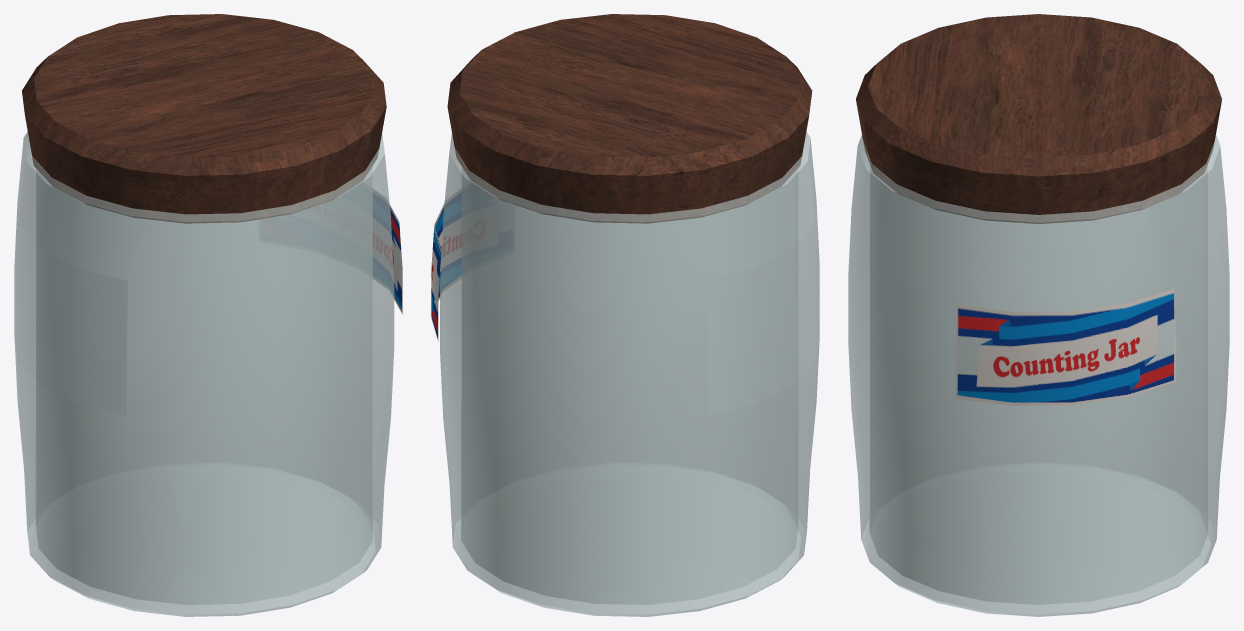
File: Jar.fbx
3 renders of one model, left to right at view 1: azimuth 30°, elevation 25°; view 2: azimuth 150°, elevation 25°; view 3: azimuth 270°, elevation 25°, orthographic.
Visible parts, largest first — view 1: polySurface2, pCylinder2, polySurface3; view 2: polySurface2, pCylinder2, polySurface3; view 3: polySurface2, pCylinder2, polySurface3.
Boxes of the visible parts, x1=… form: polySurface2: x1=14, y1=132, x2=394, y2=616; pCylinder2: x1=22, y1=14, x2=386, y2=223; polySurface3: x1=373, y1=189, x2=402, y2=313; polySurface2: x1=440, y1=131, x2=819, y2=616; pCylinder2: x1=447, y1=14, x2=812, y2=223; polySurface3: x1=431, y1=189, x2=461, y2=341; polySurface2: x1=848, y1=135, x2=1229, y2=616; pCylinder2: x1=856, y1=14, x2=1221, y2=223; polySurface3: x1=955, y1=288, x2=1176, y2=405.
Size of the model in its own units: 4.67 by 6.07 by 4.58.
3 materials, 2 textured.
